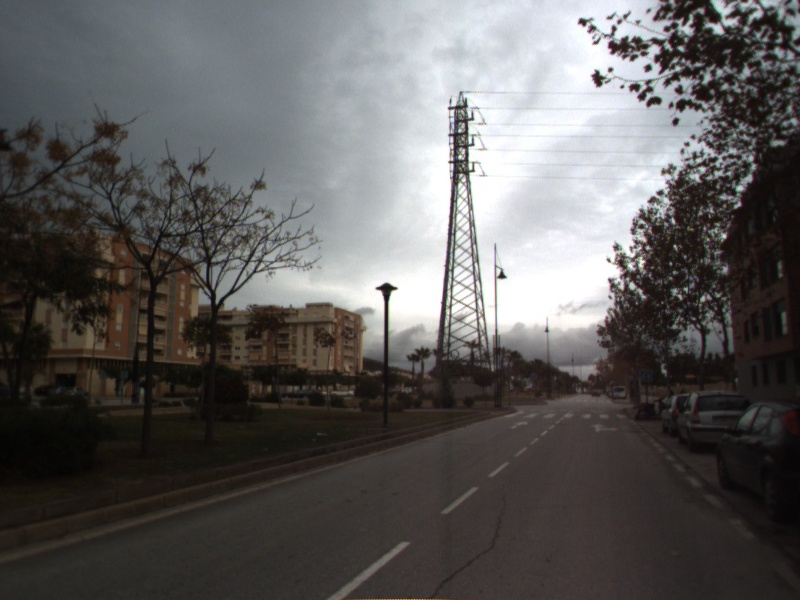STRAIGHT: (508, 419, 530, 431)
STRAIGHT_RIGHT: (588, 421, 622, 434)
